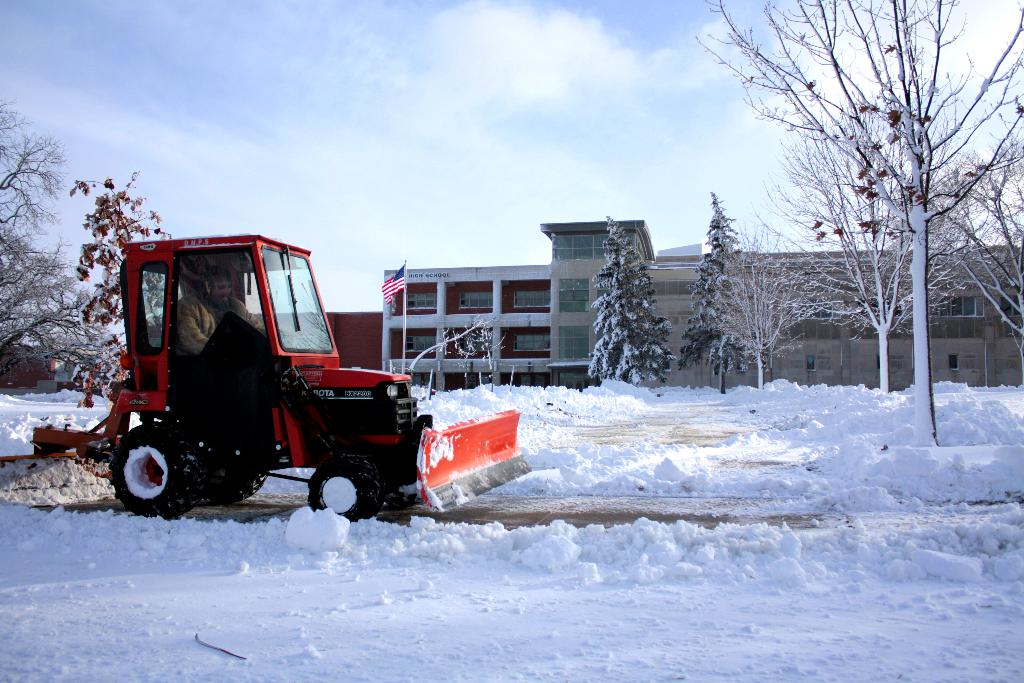Tree: (701, 0, 1024, 446), (0, 76, 174, 406), (678, 187, 766, 389), (586, 203, 679, 383)
